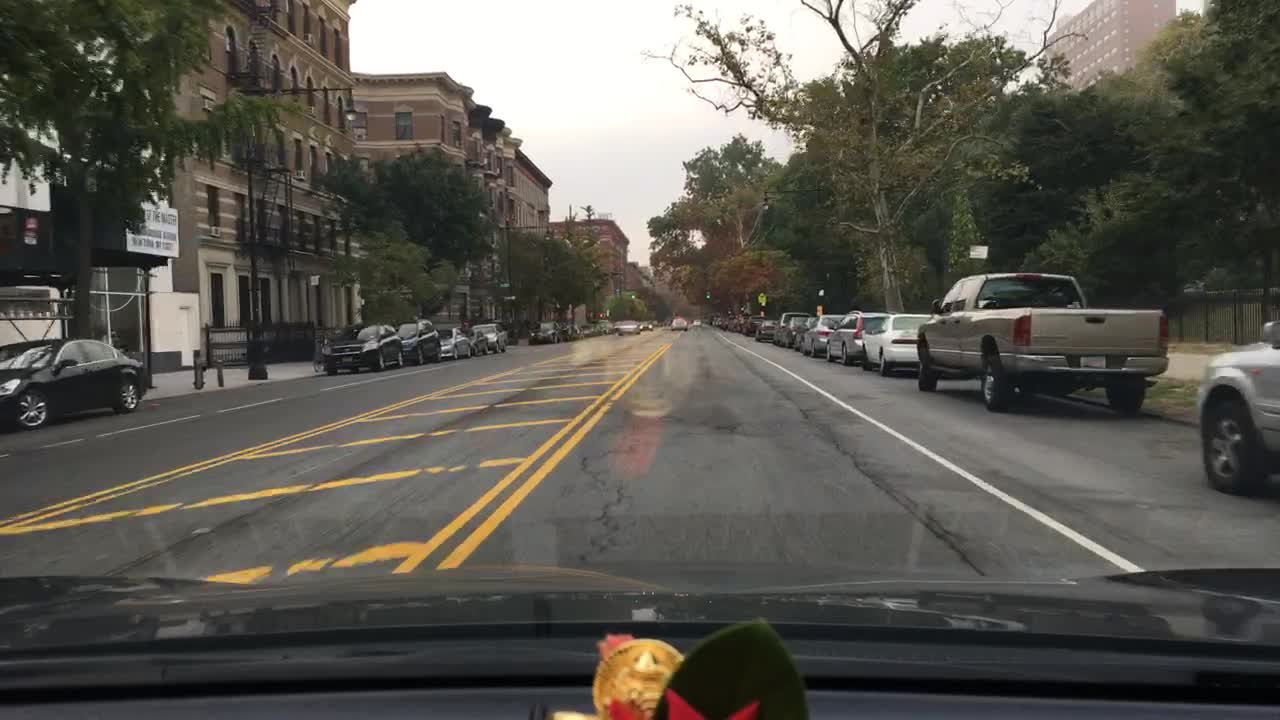car: (1199, 319, 1277, 492), (0, 338, 148, 428), (313, 319, 405, 373), (861, 309, 935, 374), (823, 309, 890, 365), (391, 316, 442, 364), (800, 313, 843, 358), (438, 327, 475, 362), (781, 314, 814, 350), (471, 322, 510, 352), (527, 317, 562, 345), (467, 328, 488, 358), (753, 319, 775, 341), (562, 319, 585, 340), (772, 316, 789, 344), (740, 314, 759, 335), (617, 318, 641, 333), (725, 312, 741, 331), (670, 315, 689, 331), (585, 321, 602, 337), (712, 312, 726, 329), (599, 319, 614, 333), (641, 318, 654, 331), (690, 316, 704, 328)
traffic light: (700, 288, 714, 302), (628, 293, 636, 304)
traffic sign: (968, 245, 991, 260), (757, 289, 765, 306)
truck: (915, 271, 1170, 412)
